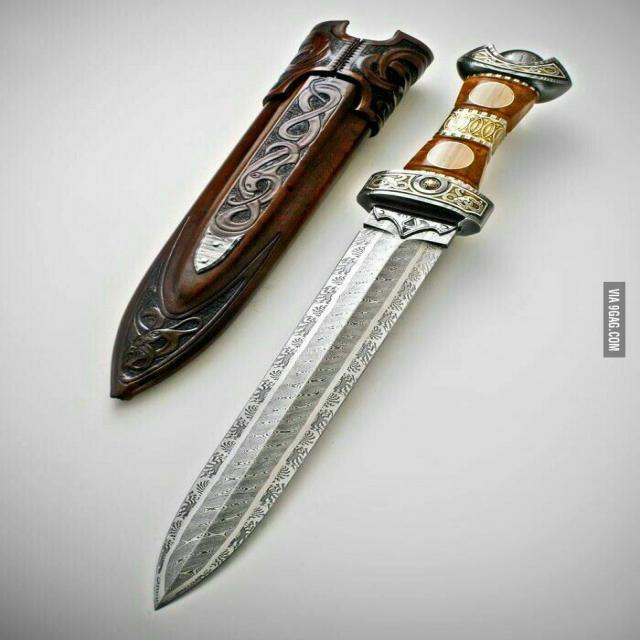short sword: (103, 16, 580, 640)
